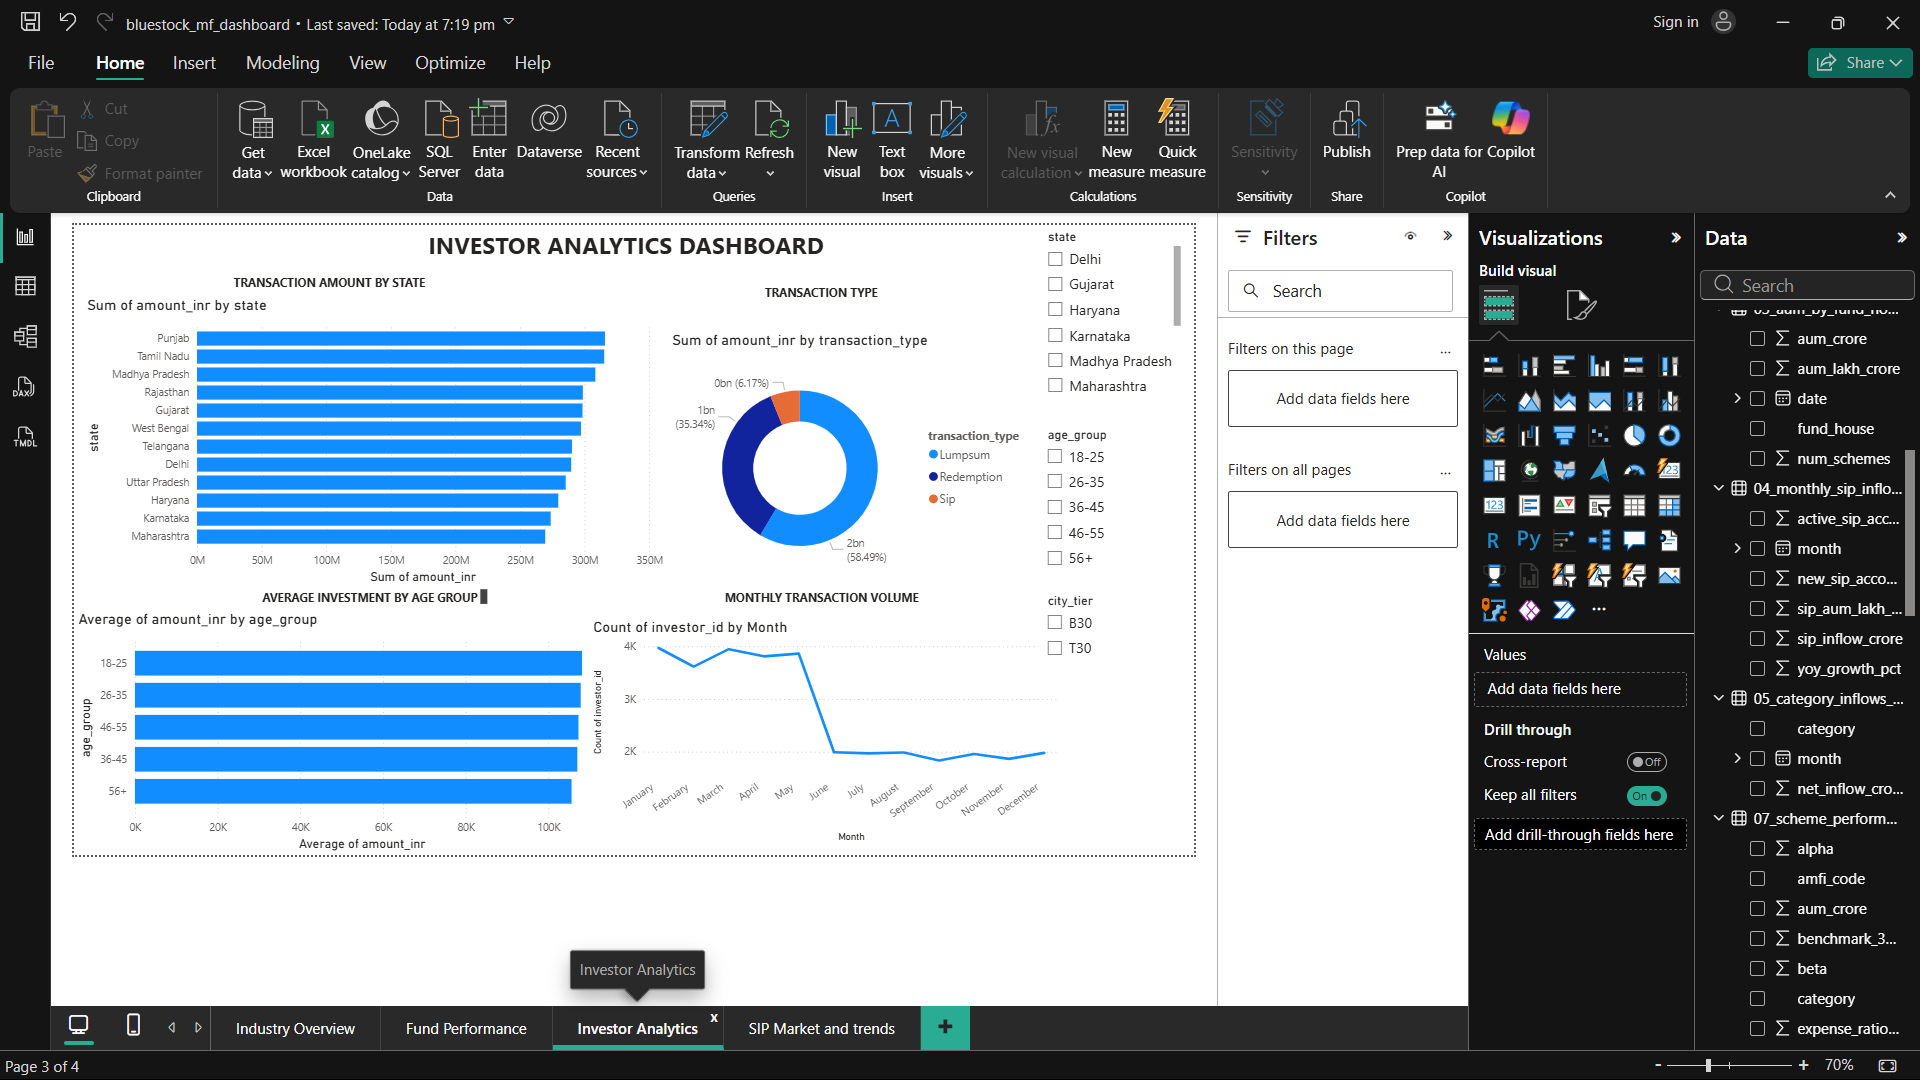

What the dashboard file says about the page in this screenshot:
{"tool":"powerbi","page":{"name":"Investor Analytics","canvas":[1280,720],"ordinal":2},"visuals":[{"type":"textbox","box":[400,0,478.6,51.4],"z":0},{"type":"clusteredBarChart","fields":{"Category":["08_investor_transactions_clean.state"],"Y":["Sum(08_investor_transactions_clean.amount_inr)"]},"box":[10,81.4,668.6,334.3],"z":1000},{"type":"donutChart","fields":{"Category":["08_investor_transactions_clean.transaction_type"],"Y":["Sum(08_investor_transactions_clean.amount_inr)"]},"box":[678.6,121.4,421.4,294.3],"z":2000},{"type":"clusteredBarChart","fields":{"Category":["08_investor_transactions_clean.age_group"],"Y":["Avg(08_investor_transactions_clean.amount_inr)"]},"box":[0,440,608.6,280],"z":3000},{"type":"lineChart","fields":{"Y":["CountNonNull(08_investor_transactions_clean.investor_id)"],"Category":["08_investor_transactions_clean.transaction_date.Variation.Date Hierarchy.Month"]},"box":[588.6,448.6,541.4,261.4],"z":4000},{"type":"slicer","fields":{"Values":["08_investor_transactions_clean.state"]},"box":[1100,0,170,207.1],"z":4001},{"type":"slicer","fields":{"Values":["08_investor_transactions_clean.age_group"]},"box":[1100,225.7,170,177.1],"z":4002},{"type":"slicer","fields":{"Values":["08_investor_transactions_clean.city_tier"]},"box":[1100,415.7,150,92.9],"z":4003},{"type":"textbox","box":[177.1,51.4,334.3,28.6],"z":4004},{"type":"textbox","box":[784.3,62.9,150,32.9],"z":4005},{"type":"textbox","box":[210,411.4,267.1,28.6],"z":4006},{"type":"textbox","box":[738.6,411.4,278.6,34.3],"z":4007}]}

Visuals, with their boxes on the page's 1280x720 design canvas (x1, y1, x2, y2). These are canvas units, not pixel positions in the 1920x1080 screenshot, which may show the page scaled, cropped or inside an application window:
textbox: [x1=400, y1=0, x2=879, y2=51]
clusteredBarChart - 08_investor_transactions_clean.state x Sum(08_investor_transactions_clean.amount_inr): [x1=10, y1=81, x2=679, y2=416]
donutChart - 08_investor_transactions_clean.transaction_type x Sum(08_investor_transactions_clean.amount_inr): [x1=679, y1=121, x2=1100, y2=416]
clusteredBarChart - 08_investor_transactions_clean.age_group x Avg(08_investor_transactions_clean.amount_inr): [x1=0, y1=440, x2=609, y2=720]
lineChart - CountNonNull(08_investor_transactions_clean.investor_id) x 08_investor_transactions_clean.transaction_date.Variation.Date Hierarchy.Month: [x1=589, y1=449, x2=1130, y2=710]
slicer - 08_investor_transactions_clean.state: [x1=1100, y1=0, x2=1270, y2=207]
slicer - 08_investor_transactions_clean.age_group: [x1=1100, y1=226, x2=1270, y2=403]
slicer - 08_investor_transactions_clean.city_tier: [x1=1100, y1=416, x2=1250, y2=509]
textbox: [x1=177, y1=51, x2=511, y2=80]
textbox: [x1=784, y1=63, x2=934, y2=96]
textbox: [x1=210, y1=411, x2=477, y2=440]
textbox: [x1=739, y1=411, x2=1017, y2=446]
